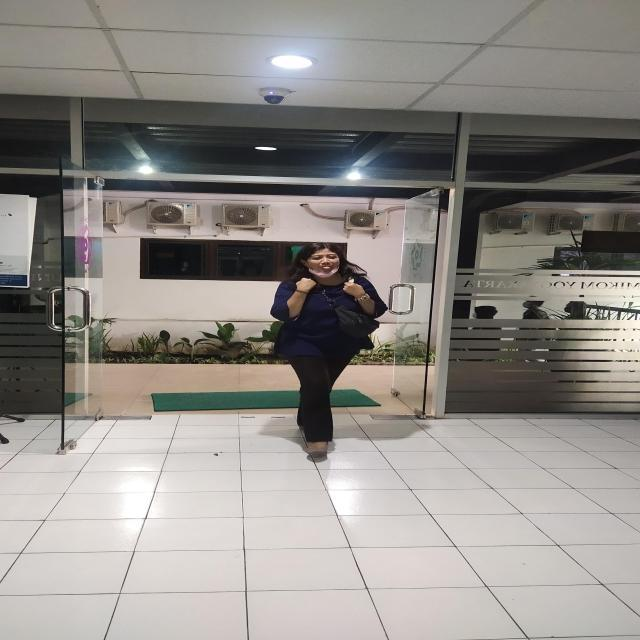hairnet: (308, 260, 342, 278)
